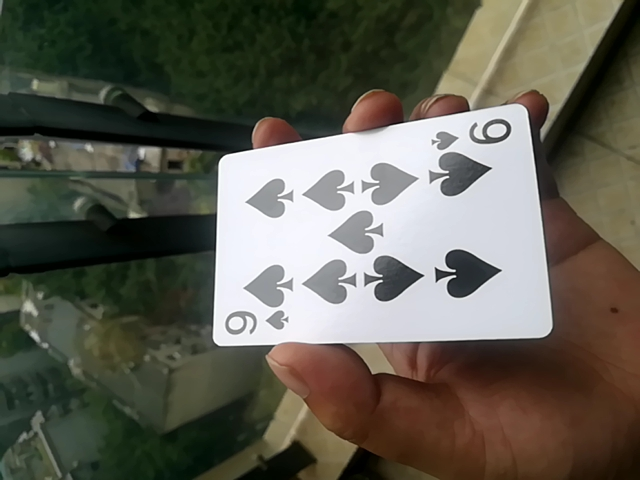ht 9: (204, 99, 551, 351)
